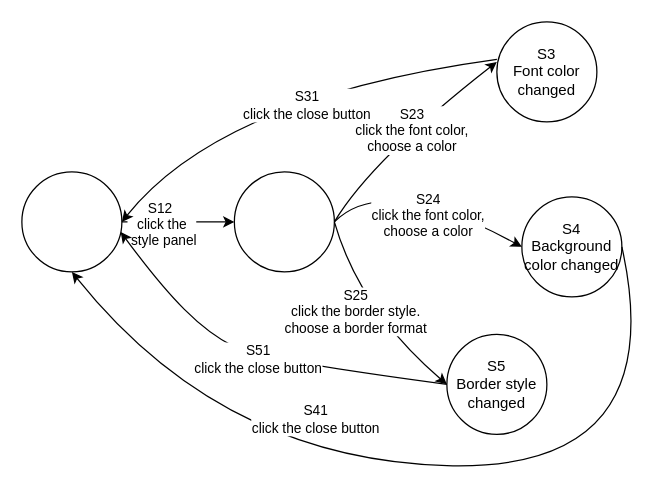
Image size: 654x489. Some labels were removed from this diagram. The centre of each missing label's shape, as x and y in pixels:
S1 Node selected: the point at 71,221
S2 Style panel opened: the point at 283,221
